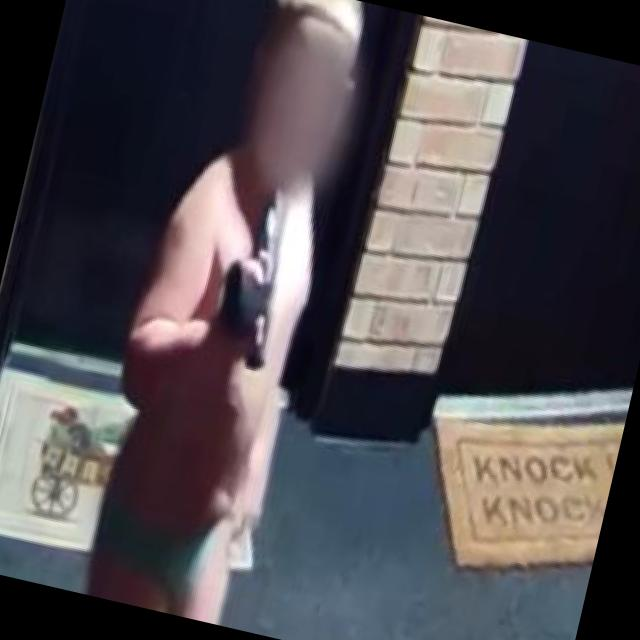Guns: (212, 184, 302, 374)
